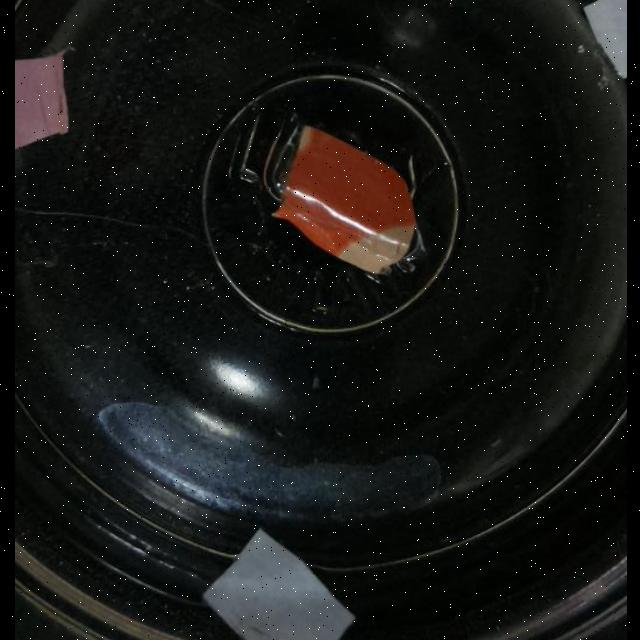Fragment: (267, 124, 415, 272), (204, 526, 356, 640), (14, 54, 70, 150), (584, 0, 626, 76)
